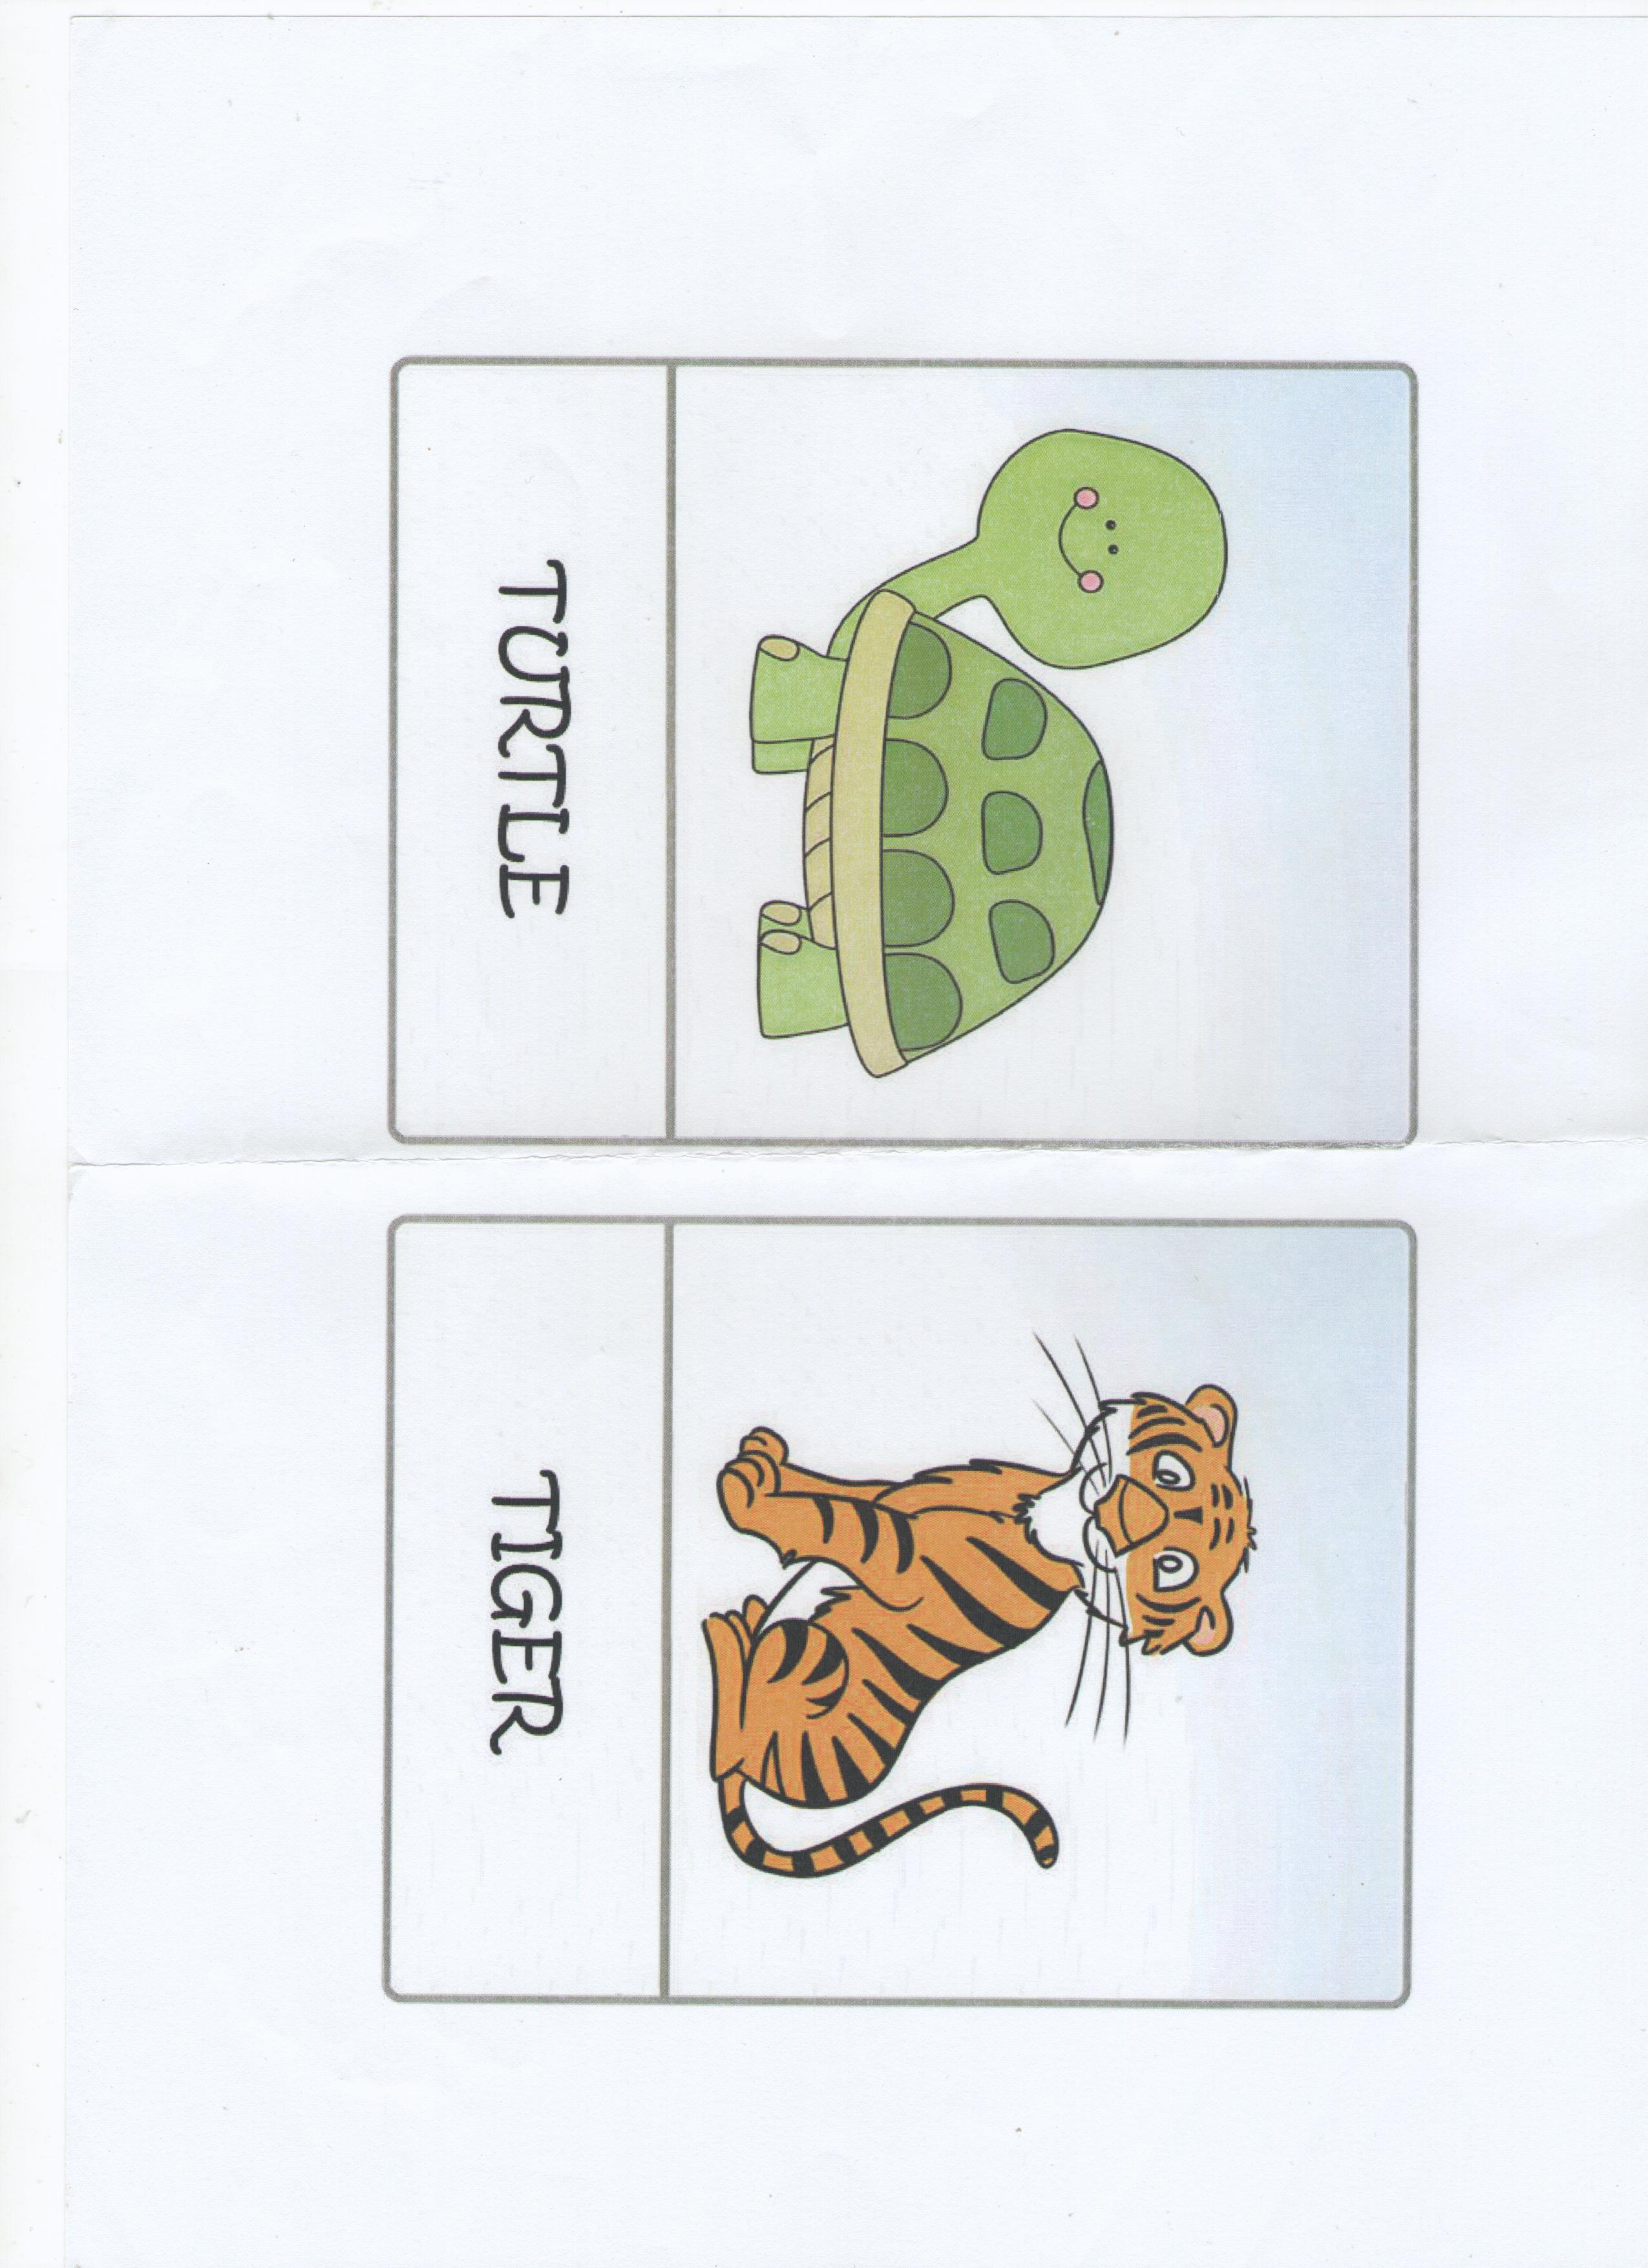tartaruga: (396, 349, 1331, 1108)
tigre: (424, 1237, 1303, 1938)
